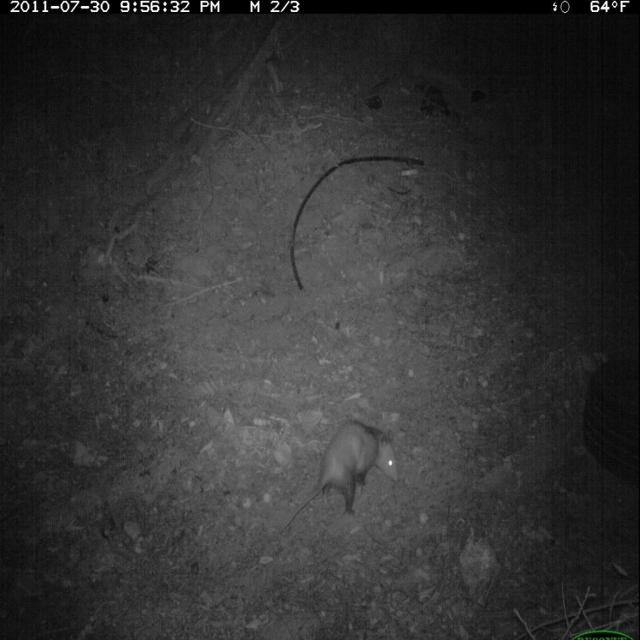opossum: (274, 402, 406, 544)
